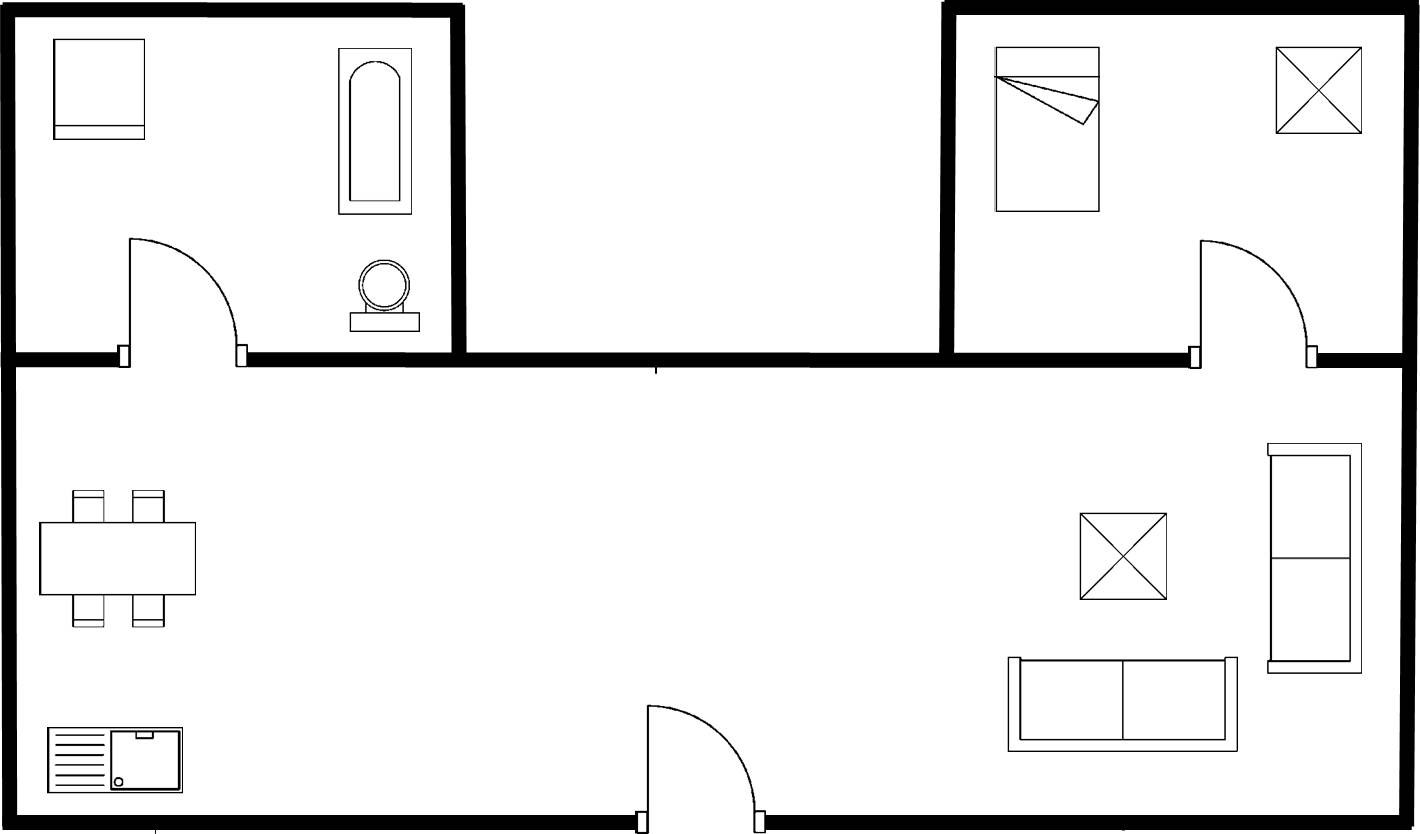bed: (985, 40, 1109, 219)
coffee_table: (1071, 506, 1175, 608), (1268, 39, 1370, 141)
dining_table: (33, 485, 205, 633)
large_sink: (342, 254, 429, 339)
large_sofa: (1001, 649, 1245, 759), (1261, 437, 1368, 679)
sink: (40, 720, 191, 799)
small_sofa: (45, 32, 151, 152)
tub: (333, 40, 417, 222)
